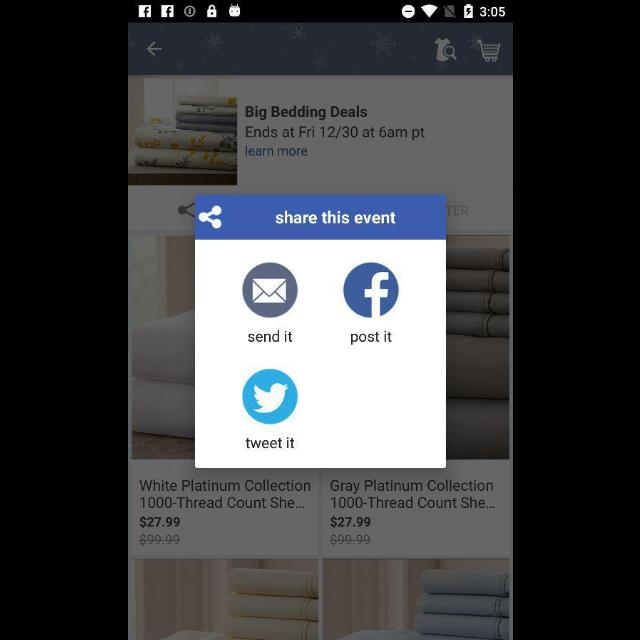icon: (241, 262, 297, 318), (342, 263, 398, 317), (241, 370, 297, 424), (476, 41, 499, 64), (434, 38, 456, 62), (199, 206, 221, 228), (146, 42, 162, 58)
image: (128, 77, 235, 185)
panel: (194, 196, 446, 468)
text: (140, 479, 310, 508), (330, 479, 494, 508), (246, 127, 424, 141), (244, 106, 366, 120), (276, 211, 394, 225), (245, 146, 307, 156), (350, 330, 392, 344), (248, 330, 292, 342), (138, 516, 180, 528), (329, 534, 369, 546), (330, 516, 370, 528), (139, 533, 179, 545), (246, 438, 294, 448)
uppertaskbar: (128, 1, 512, 23)
